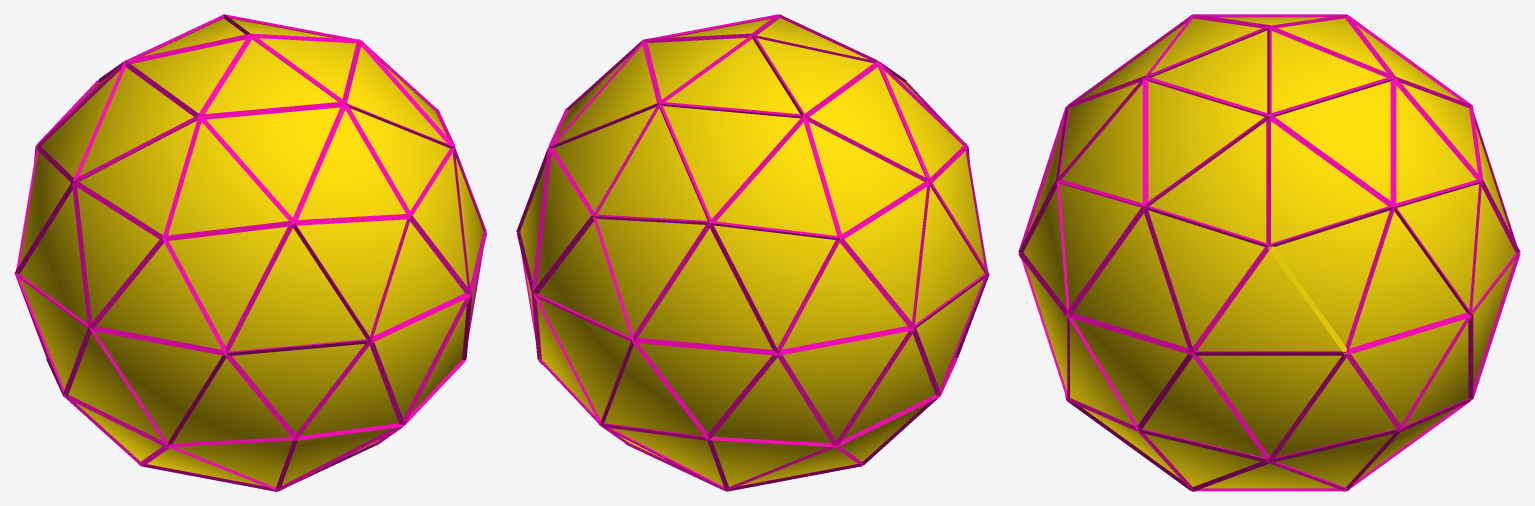
File: dronssss.FBX
The picture shows the model from 3 angles, left to right: view 1: azimuth 30°, elevation 25°; view 2: azimuth 150°, elevation 25°; view 3: azimuth 270°, elevation 25°; orthographic projection. The views are drawn at different scales.
Visible parts, largest first — view 1: GeoSphere003; view 2: GeoSphere003; view 3: GeoSphere003.
Boxes of the visible parts, x1,y1,x2,y2 form: GeoSphere003: (14, 14, 487, 491); GeoSphere003: (516, 14, 989, 491); GeoSphere003: (1018, 14, 1520, 491).
Size of the model in its own units: 4.98 by 5.24 by 5.24.
